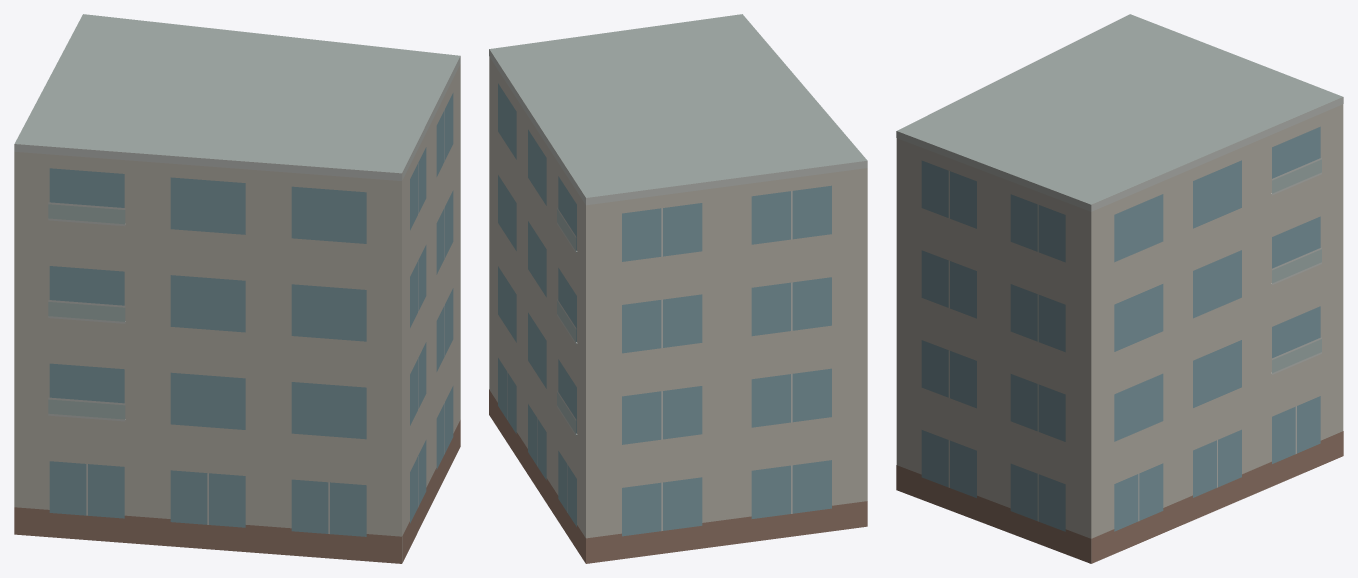
Rendered from survey-upis-32726155.glb.
3 views of the same model, side by side, from view 1: azimuth 30°, elevation 25°; view 2: azimuth 150°, elevation 25°; view 3: azimuth 270°, elevation 25° (orthographic). The views are drawn at different scales.
Visible parts, largest first — view 1: survey-upis-32726155.tmp; view 2: survey-upis-32726155.tmp; view 3: survey-upis-32726155.tmp.
Boxes of the visible parts, bbox=[...] form: survey-upis-32726155.tmp: bbox=[14, 14, 460, 563]; survey-upis-32726155.tmp: bbox=[489, 14, 867, 563]; survey-upis-32726155.tmp: bbox=[896, 14, 1343, 563].
Bounding box in the file's own units: 13.9 × 12.2 × 13.77.
